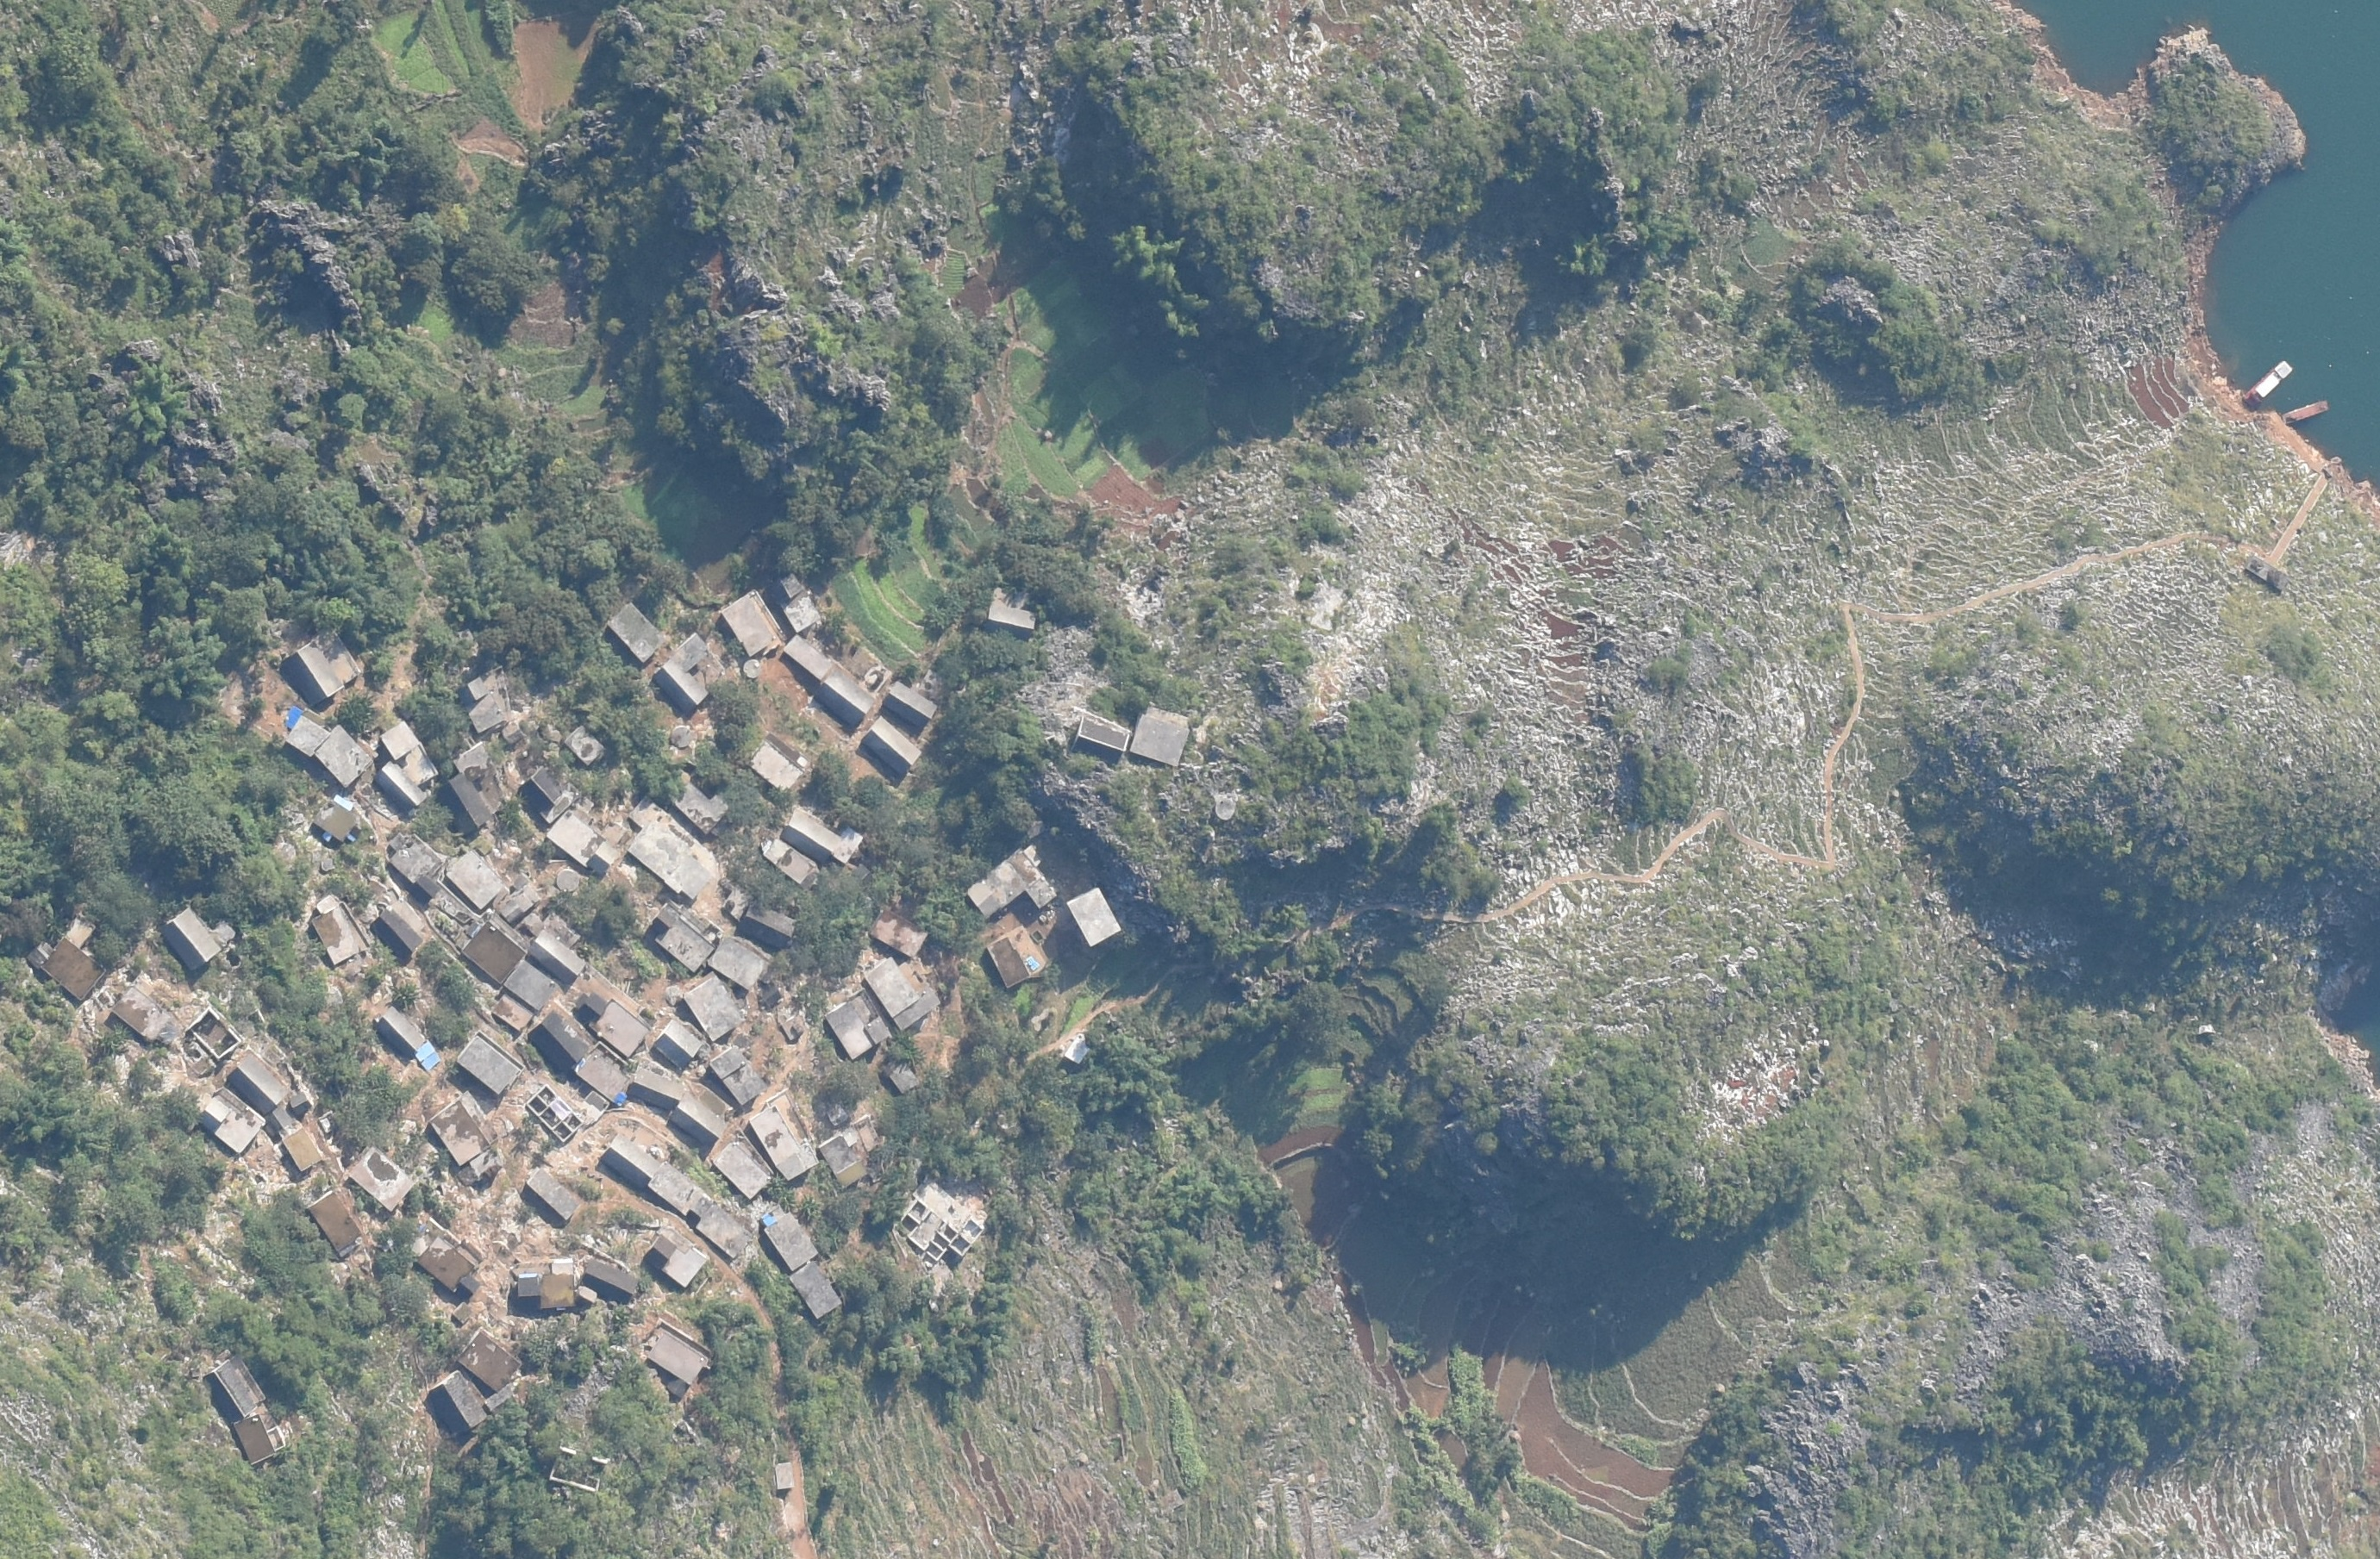building: (630, 797, 717, 896), (781, 635, 868, 722), (898, 1185, 992, 1265), (26, 915, 110, 999), (287, 715, 369, 788), (969, 846, 1053, 917), (752, 1093, 819, 1180), (433, 1101, 505, 1176), (404, 1227, 478, 1296), (378, 717, 435, 806), (866, 957, 939, 1027), (287, 632, 357, 701), (783, 807, 863, 866), (823, 1103, 882, 1183), (576, 992, 649, 1056), (642, 905, 712, 971), (825, 992, 889, 1061), (198, 1086, 266, 1150), (271, 1093, 325, 1173), (720, 889, 797, 945), (552, 814, 619, 877), (165, 912, 237, 971), (663, 635, 722, 706), (525, 913, 588, 980), (684, 974, 745, 1042), (301, 1188, 362, 1255), (350, 1152, 416, 1213), (430, 1371, 489, 1439), (458, 1034, 522, 1094), (645, 1329, 713, 1387), (459, 1331, 520, 1394), (449, 745, 491, 833), (668, 774, 731, 833), (760, 1209, 819, 1272), (110, 987, 177, 1040), (313, 900, 367, 967), (722, 593, 778, 658), (578, 1044, 637, 1103), (463, 926, 525, 981), (710, 938, 774, 992), (861, 717, 920, 774), (990, 927, 1049, 985), (609, 602, 663, 663), (1068, 887, 1122, 948), (205, 1361, 257, 1423), (647, 1164, 712, 1214), (645, 1234, 712, 1282), (447, 851, 501, 910), (386, 832, 444, 886), (496, 879, 550, 936), (792, 1261, 846, 1319), (522, 764, 574, 823), (501, 959, 560, 1011), (226, 1060, 287, 1110), (527, 1014, 588, 1065), (710, 1049, 765, 1103), (524, 1169, 579, 1223), (510, 1261, 574, 1307), (868, 910, 933, 955), (1133, 713, 1190, 764), (715, 1143, 769, 1195), (753, 738, 804, 793), (578, 1260, 637, 1307), (372, 1009, 426, 1060), (458, 677, 506, 733), (762, 837, 818, 886), (190, 1009, 240, 1061), (604, 1136, 659, 1183), (1072, 715, 1131, 759), (231, 1416, 282, 1467), (379, 901, 430, 952), (694, 1206, 748, 1253), (776, 576, 819, 633), (665, 1098, 722, 1141), (313, 797, 364, 844), (625, 1068, 680, 1108), (651, 1021, 701, 1065), (986, 599, 1042, 635), (886, 684, 936, 724), (2241, 552, 2290, 590), (567, 724, 607, 764), (491, 997, 532, 1030), (886, 1061, 919, 1094), (779, 1011, 807, 1039), (774, 1462, 799, 1491), (1066, 1032, 1089, 1063)
prefabricated-house: (412, 1039, 440, 1070), (285, 706, 304, 729)
ship: (2248, 358, 2290, 400), (2281, 400, 2330, 428)
well: (1213, 795, 1237, 821), (555, 868, 581, 893), (668, 726, 694, 746), (743, 658, 764, 679)
